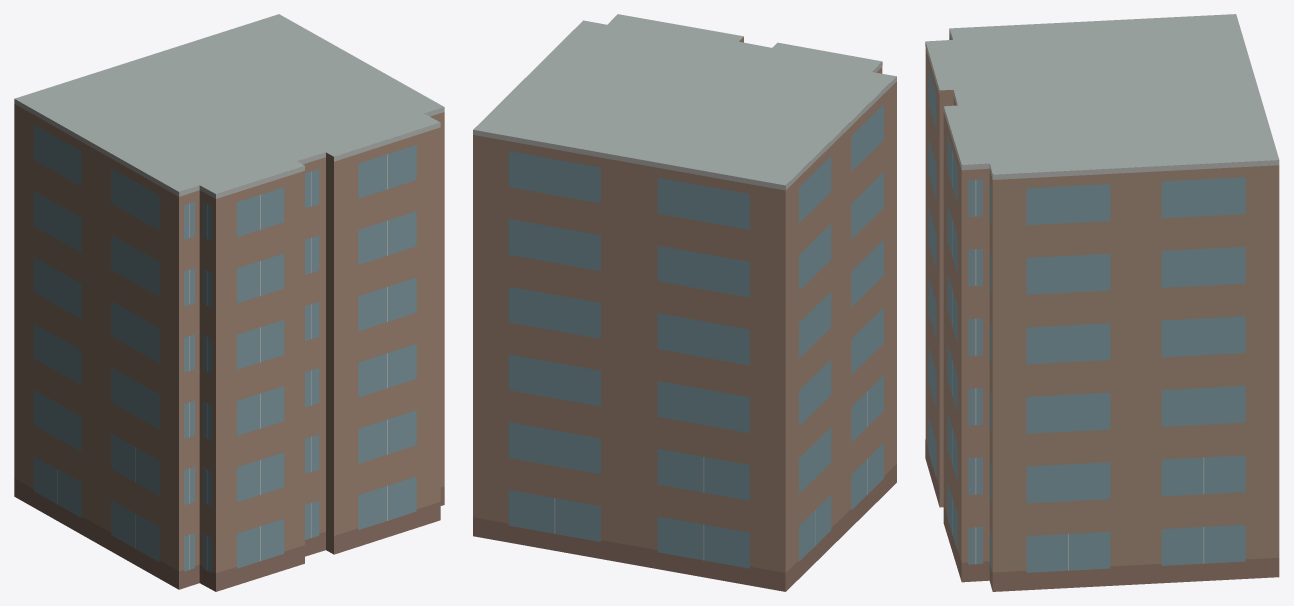
File: survey-upis-32882754.glb
The picture shows the model from 3 angles, left to right: view 1: azimuth 30°, elevation 25°; view 2: azimuth 150°, elevation 25°; view 3: azimuth 270°, elevation 25°; orthographic projection. The views are drawn at different scales.
Parts seen in each view (by area): view 1: survey-upis-32882754.tmp; view 2: survey-upis-32882754.tmp; view 3: survey-upis-32882754.tmp.
Boxes of the visible parts, box(x1,y1,x2,y2) form: survey-upis-32882754.tmp: box(14, 14, 444, 591); survey-upis-32882754.tmp: box(473, 14, 896, 591); survey-upis-32882754.tmp: box(925, 14, 1279, 591).
Bounding box in the file's own units: 16.3 × 19.7 × 15.16.
